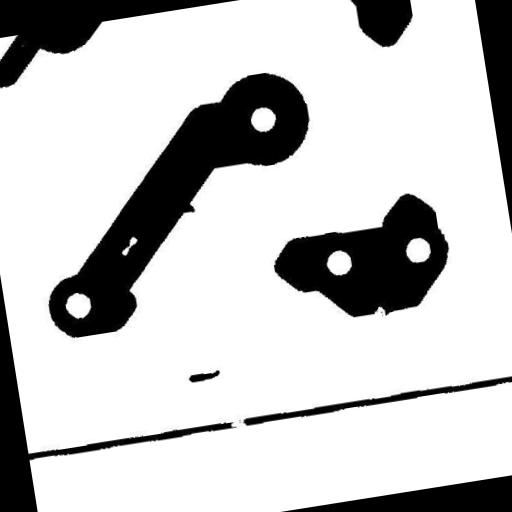copper: (178, 360, 228, 390)
mousebite: (364, 296, 394, 326)
open: (221, 410, 255, 436)
pin-hole: (110, 227, 148, 264)
spur: (170, 194, 202, 222)
